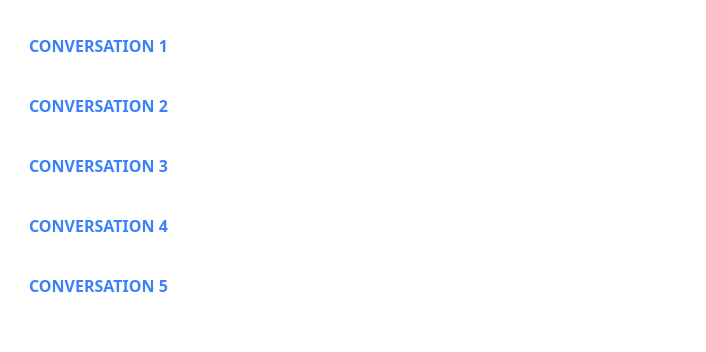
Test: App › should open up a the most recently updated chat feed when clicking on the first conversation
Click the button "Conversation 1": click(98, 46) [17, 22, 180, 70]
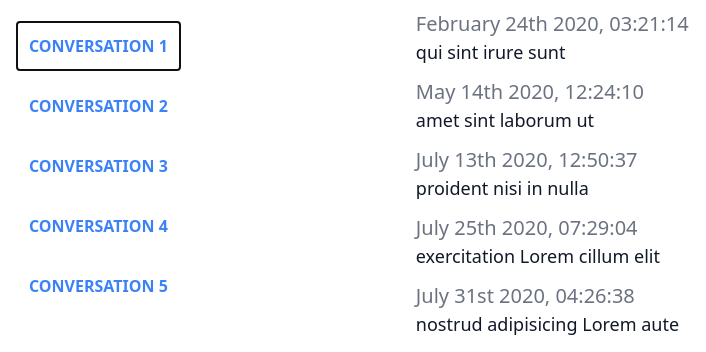
Check: the text "qui sint irure sunt" is shown, box [416, 40, 565, 64]
